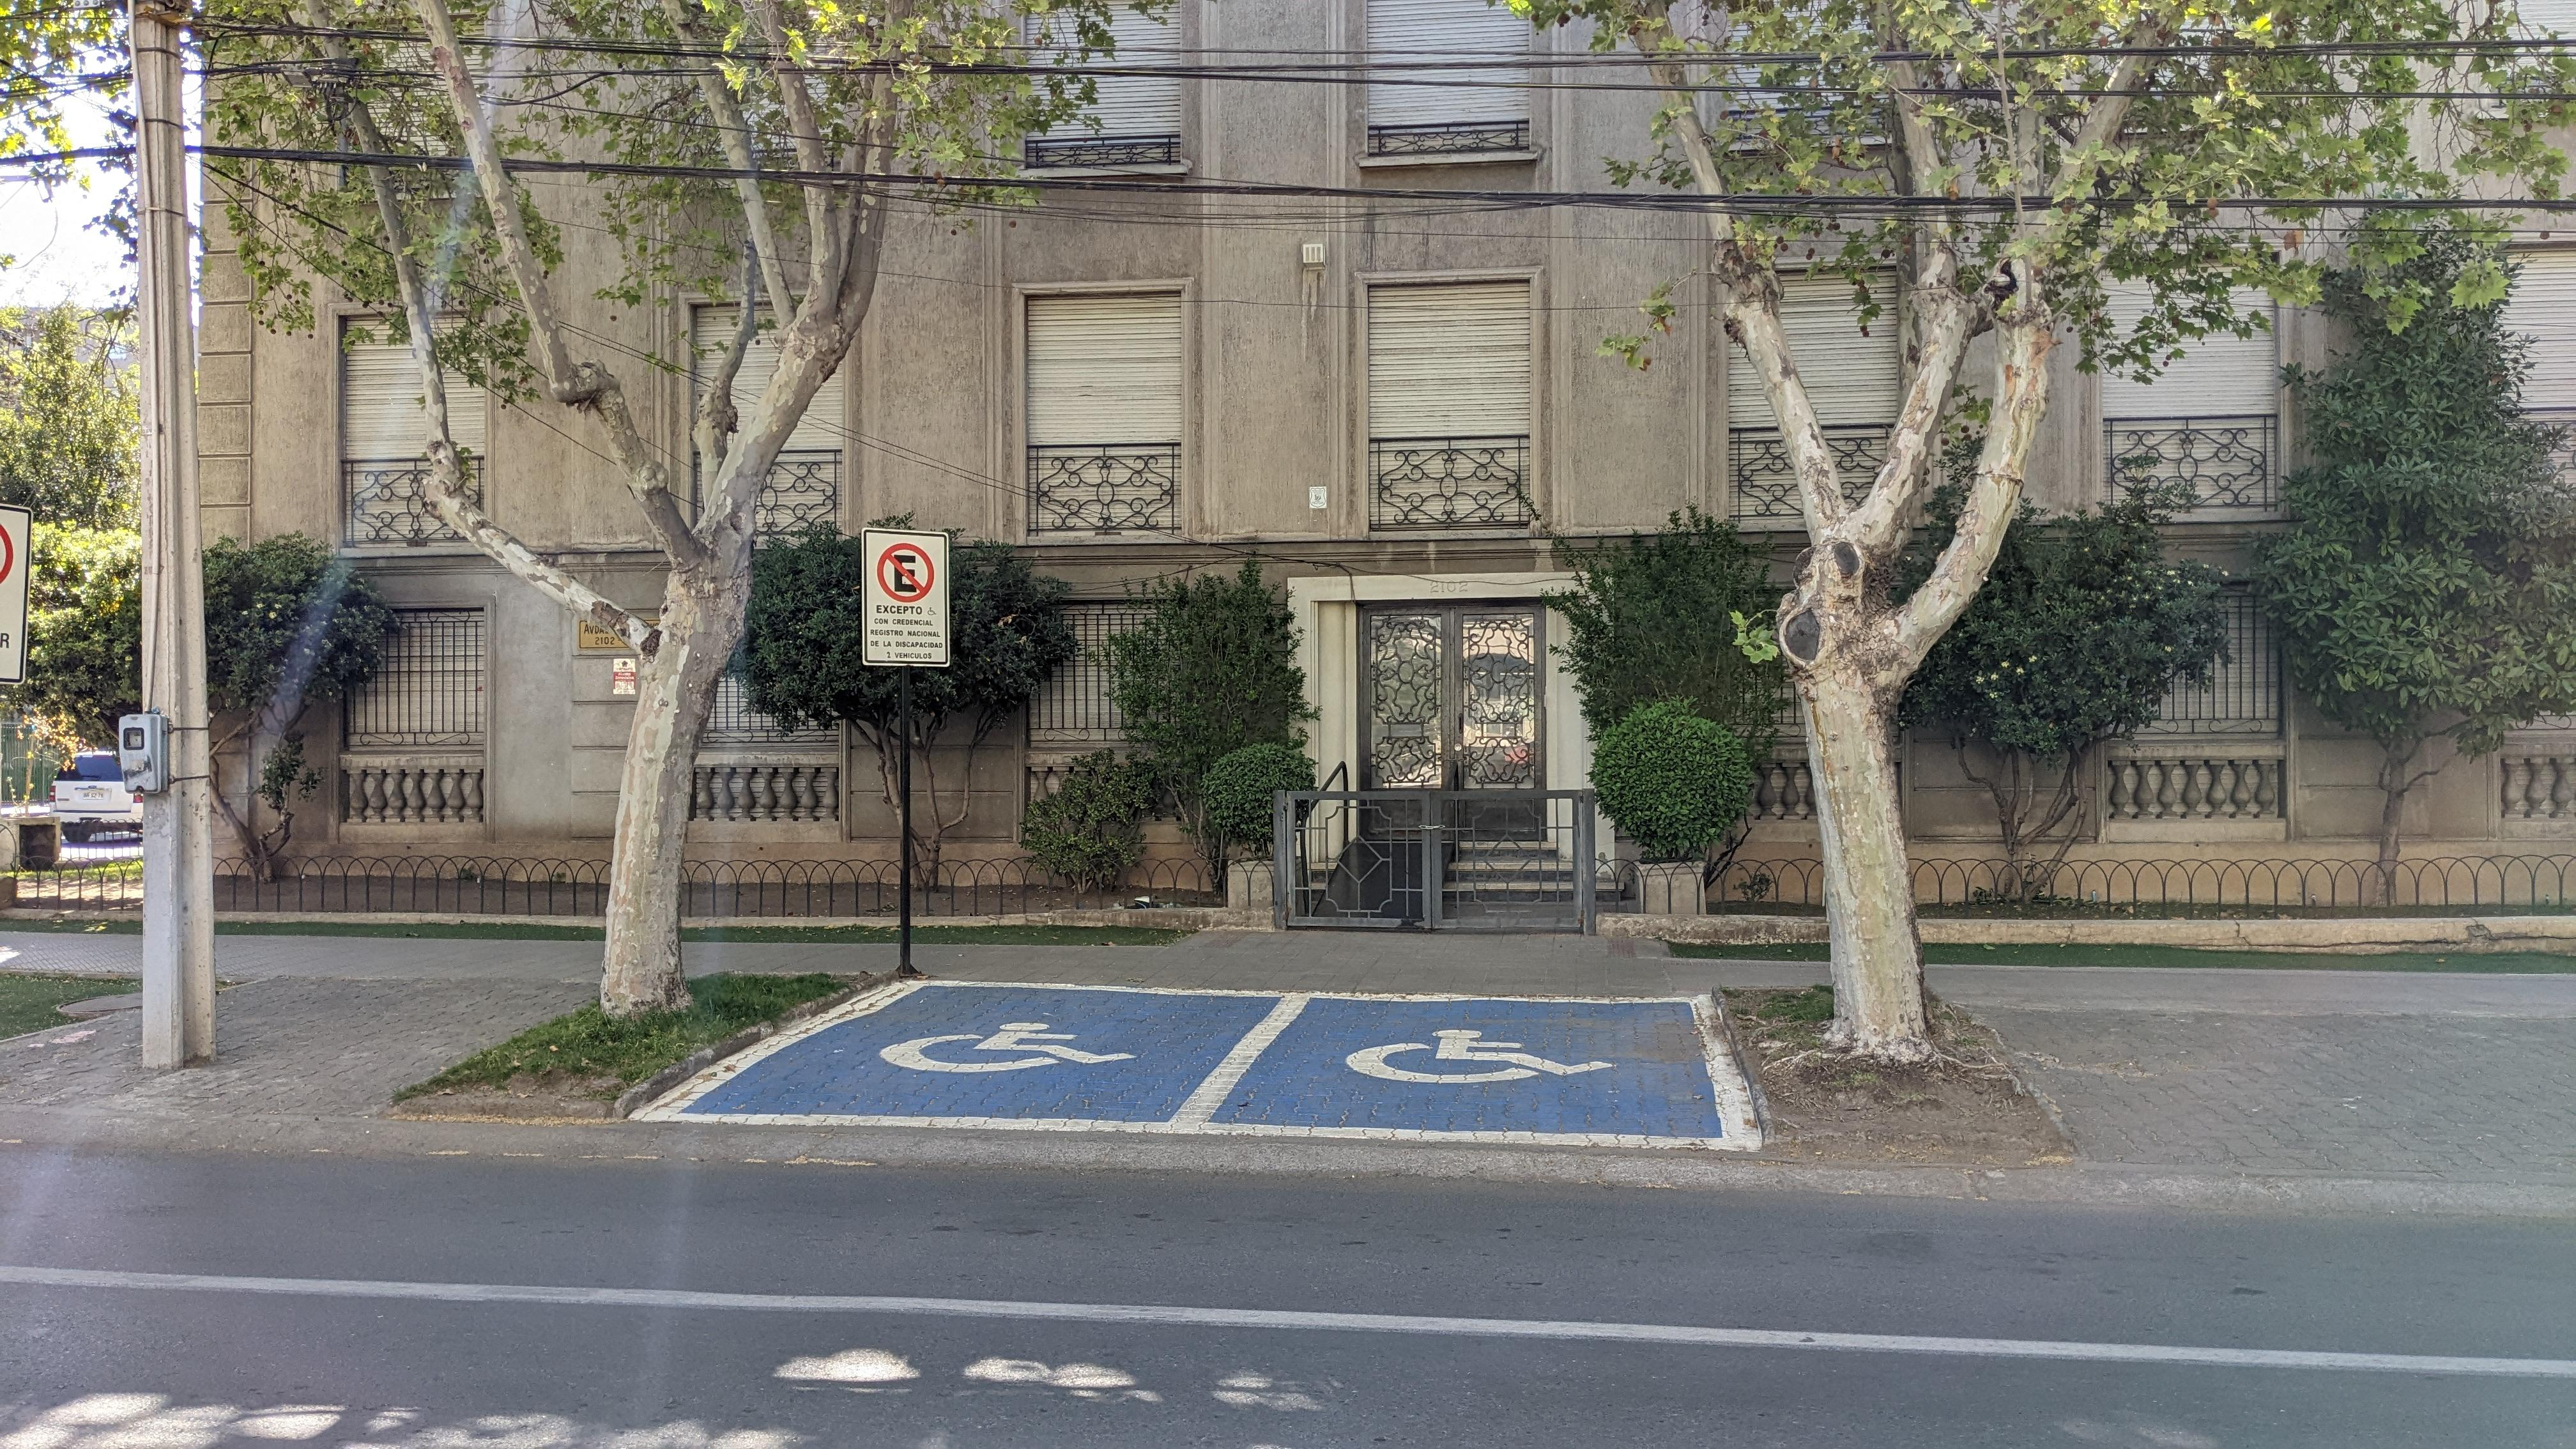handicapped symbol: (1343, 1028, 1617, 1085), (872, 1021, 1138, 1076)
